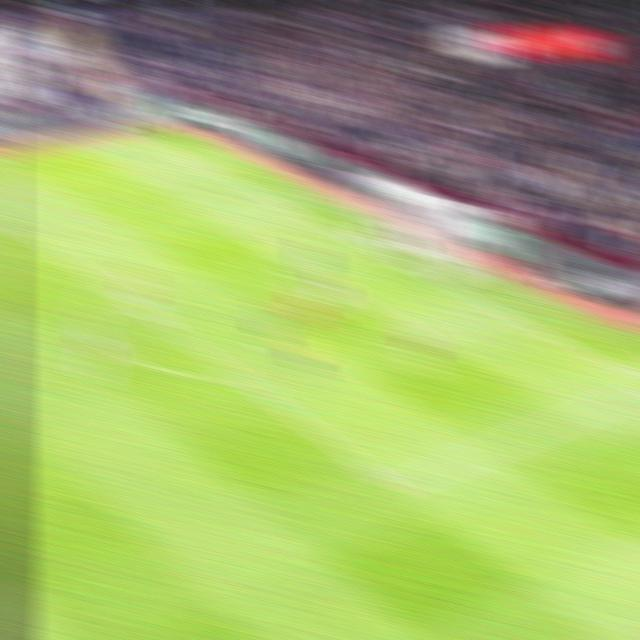bigarea_bottom_inner: (374, 468, 416, 504)
bigarea_top_inner: (2, 212, 35, 236)
bigarea_top_outter: (214, 167, 246, 187)
bottom_arc_area_intersection: (223, 361, 258, 391)
corner: (121, 125, 155, 142)
smallarea_bottom_outter: (482, 295, 521, 325)
smallarea_top_inner: (233, 226, 269, 250)
smallarea_top_outter: (301, 208, 334, 232)
top_arc_area_intersection: (92, 273, 124, 297)
